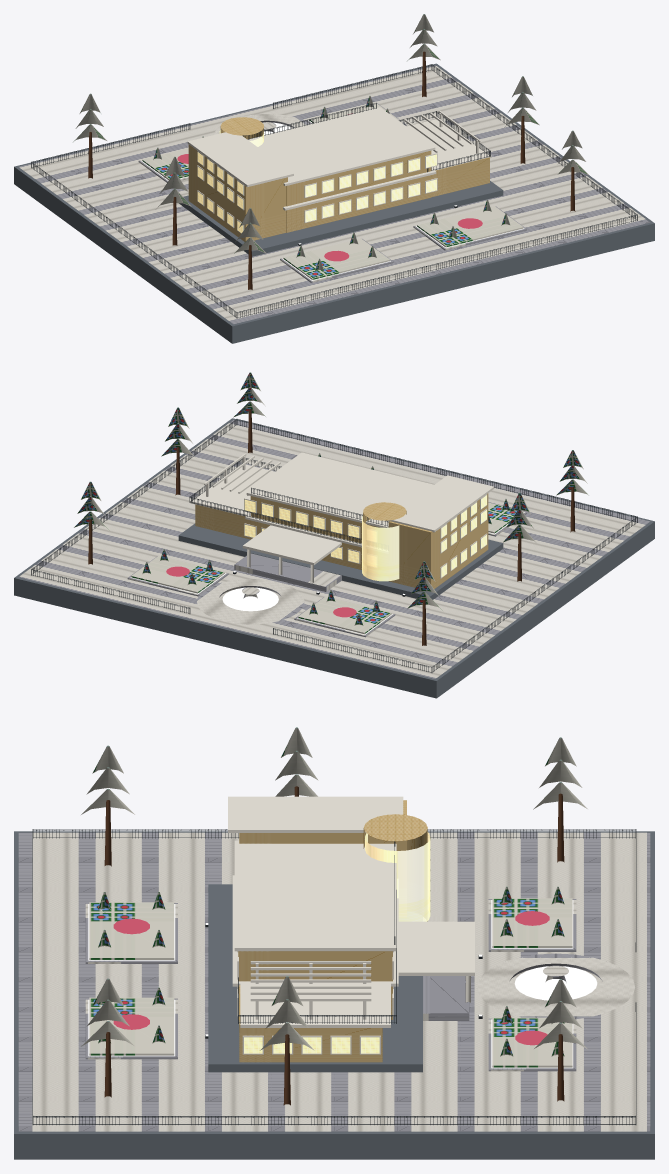
File: ultra_lm_07_dinh_3_bao_dai.glb
The picture shows the model from 3 angles, top to bottom: view 1: azimuth 30°, elevation 25°; view 2: azimuth 150°, elevation 25°; view 3: azimuth 270°, elevation 25°; orthographic projection. The views are drawn at different scales.
Visible parts, largest first — view 1: WhiteGravel_Carriageway_And_Paths_1024PBR, Foundation_Skirt_And_Stone_Plinth, Streamline_Canopies_Pergolas_And_Bands, Golden_PebbleWash_Modernist_Masses_1024PBR, French_Parterre_And_AiAn_Pines_1024PBR, Terrace_And_Balcony_WroughtIron_Railings, Modernist_Ribbon_And_StairTower_Glass_1024PBR, Pine_Trunks_And_Window_Frames, ThuongUyen_Royal_Flower_Beds, Night_Facade_And_Garden_Floodlights; view 2: WhiteGravel_Carriageway_And_Paths_1024PBR, Foundation_Skirt_And_Stone_Plinth, Streamline_Canopies_Pergolas_And_Bands, French_Parterre_And_AiAn_Pines_1024PBR, Golden_PebbleWash_Modernist_Masses_1024PBR, Terrace_And_Balcony_WroughtIron_Railings, Modernist_Ribbon_And_StairTower_Glass_1024PBR, Night_Facade_And_Garden_Floodlights, Pine_Trunks_And_Window_Frames; view 3: WhiteGravel_Carriageway_And_Paths_1024PBR, Streamline_Canopies_Pergolas_And_Bands, Foundation_Skirt_And_Stone_Plinth, French_Parterre_And_AiAn_Pines_1024PBR, Golden_PebbleWash_Modernist_Masses_1024PBR, Terrace_And_Balcony_WroughtIron_Railings, Modernist_Ribbon_And_StairTower_Glass_1024PBR, Night_Facade_And_Garden_Floodlights, Pine_Trunks_And_Window_Frames, ThuongUyen_Royal_Flower_Beds.
Part boxes in pixels (x1=…): WhiteGravel_Carriageway_And_Paths_1024PBR: x1=19, y1=65, x2=650, y2=324; Foundation_Skirt_And_Stone_Plinth: x1=14, y1=63, x2=654, y2=343; Streamline_Canopies_Pergolas_And_Bands: x1=187, y1=107, x2=491, y2=233; Golden_PebbleWash_Modernist_Masses_1024PBR: x1=188, y1=117, x2=489, y2=241; French_Parterre_And_AiAn_Pines_1024PBR: x1=73, y1=14, x2=589, y2=279; Terrace_And_Balcony_WroughtIron_Railings: x1=31, y1=64, x2=637, y2=318; Modernist_Ribbon_And_StairTower_Glass_1024PBR: x1=197, y1=130, x2=436, y2=233; Pine_Trunks_And_Window_Frames: x1=88, y1=51, x2=575, y2=289; ThuongUyen_Royal_Flower_Beds: x1=177, y1=113, x2=482, y2=261; Night_Facade_And_Garden_Floodlights: x1=141, y1=120, x2=524, y2=280; WhiteGravel_Carriageway_And_Paths_1024PBR: x1=18, y1=419, x2=650, y2=678; Foundation_Skirt_And_Stone_Plinth: x1=14, y1=418, x2=654, y2=698; Streamline_Canopies_Pergolas_And_Bands: x1=190, y1=452, x2=494, y2=582; French_Parterre_And_AiAn_Pines_1024PBR: x1=74, y1=372, x2=588, y2=634; Golden_PebbleWash_Modernist_Masses_1024PBR: x1=195, y1=493, x2=488, y2=588; Terrace_And_Balcony_WroughtIron_Railings: x1=31, y1=419, x2=637, y2=672; Modernist_Ribbon_And_StairTower_Glass_1024PBR: x1=244, y1=495, x2=486, y2=581; Night_Facade_And_Garden_Floodlights: x1=130, y1=512, x2=524, y2=634; Pine_Trunks_And_Window_Frames: x1=88, y1=409, x2=575, y2=645; WhiteGravel_Carriageway_And_Paths_1024PBR: x1=18, y1=832, x2=650, y2=1131; Streamline_Canopies_Pergolas_And_Bands: x1=228, y1=796, x2=474, y2=1054; Foundation_Skirt_And_Stone_Plinth: x1=14, y1=831, x2=654, y2=1159; French_Parterre_And_AiAn_Pines_1024PBR: x1=81, y1=727, x2=587, y2=1067; Golden_PebbleWash_Modernist_Masses_1024PBR: x1=238, y1=800, x2=427, y2=1062; Terrace_And_Balcony_WroughtIron_Railings: x1=32, y1=829, x2=636, y2=1124; Modernist_Ribbon_And_StairTower_Glass_1024PBR: x1=244, y1=832, x2=430, y2=1053; Night_Facade_And_Garden_Floodlights: x1=88, y1=900, x2=597, y2=1068; Pine_Trunks_And_Window_Frames: x1=104, y1=786, x2=564, y2=1105; ThuongUyen_Royal_Flower_Beds: x1=113, y1=911, x2=549, y2=1045.
Bounding box in the file's own units: 76 × 18.35 × 68.
11 materials, 4 textured.
